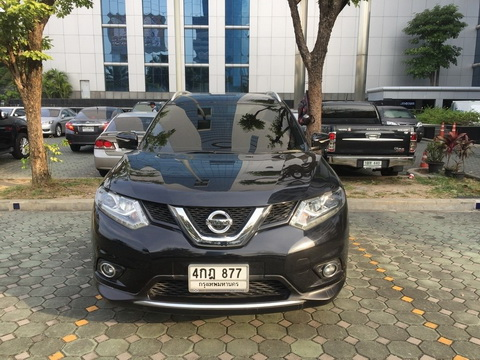numplate: (187, 264, 249, 293), (362, 159, 382, 168), (81, 126, 93, 132)
